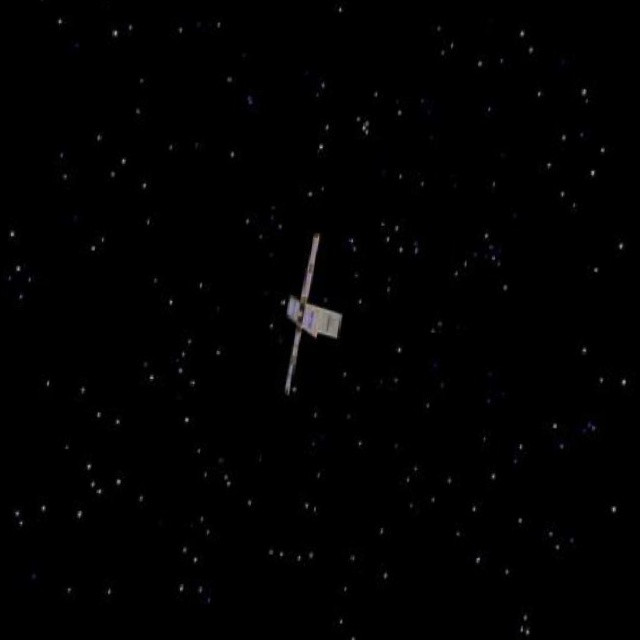satellite: (266, 220, 361, 410)
